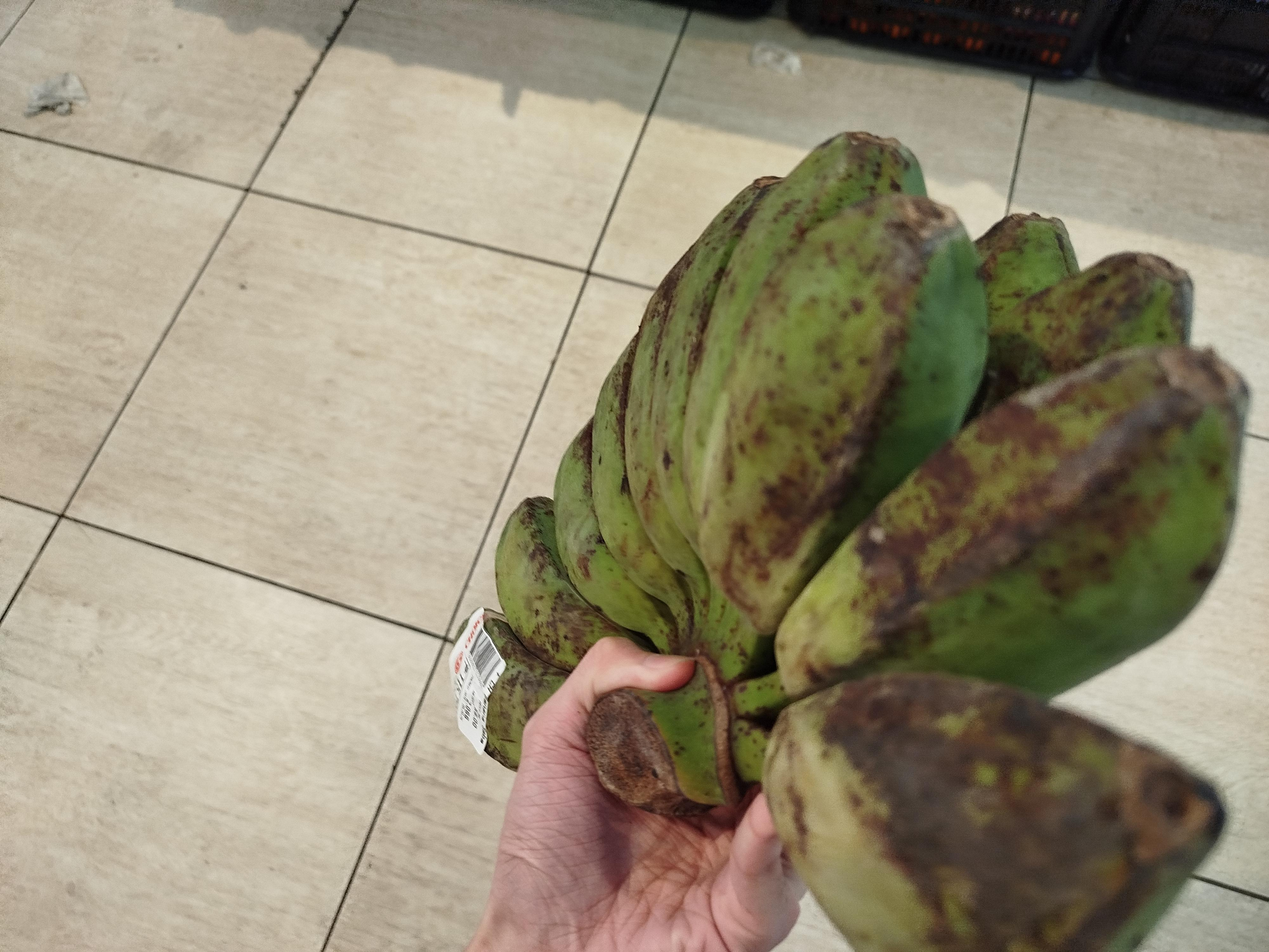underripe: (453, 133, 1249, 952)
